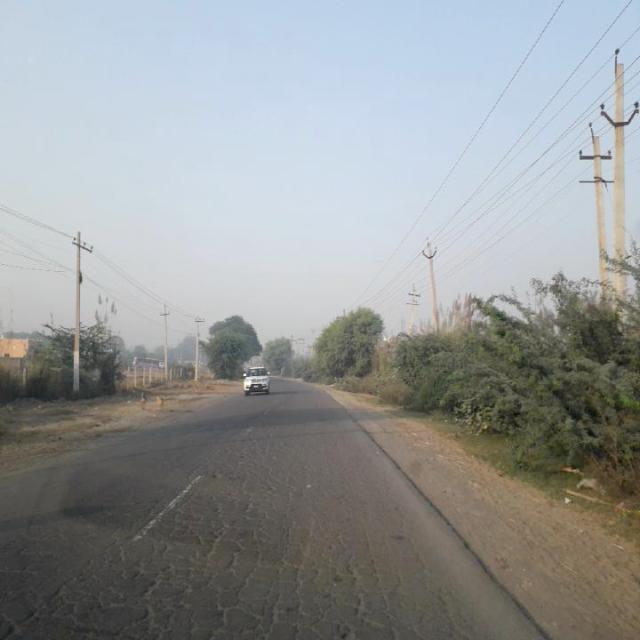crack: (0, 437, 412, 638)
